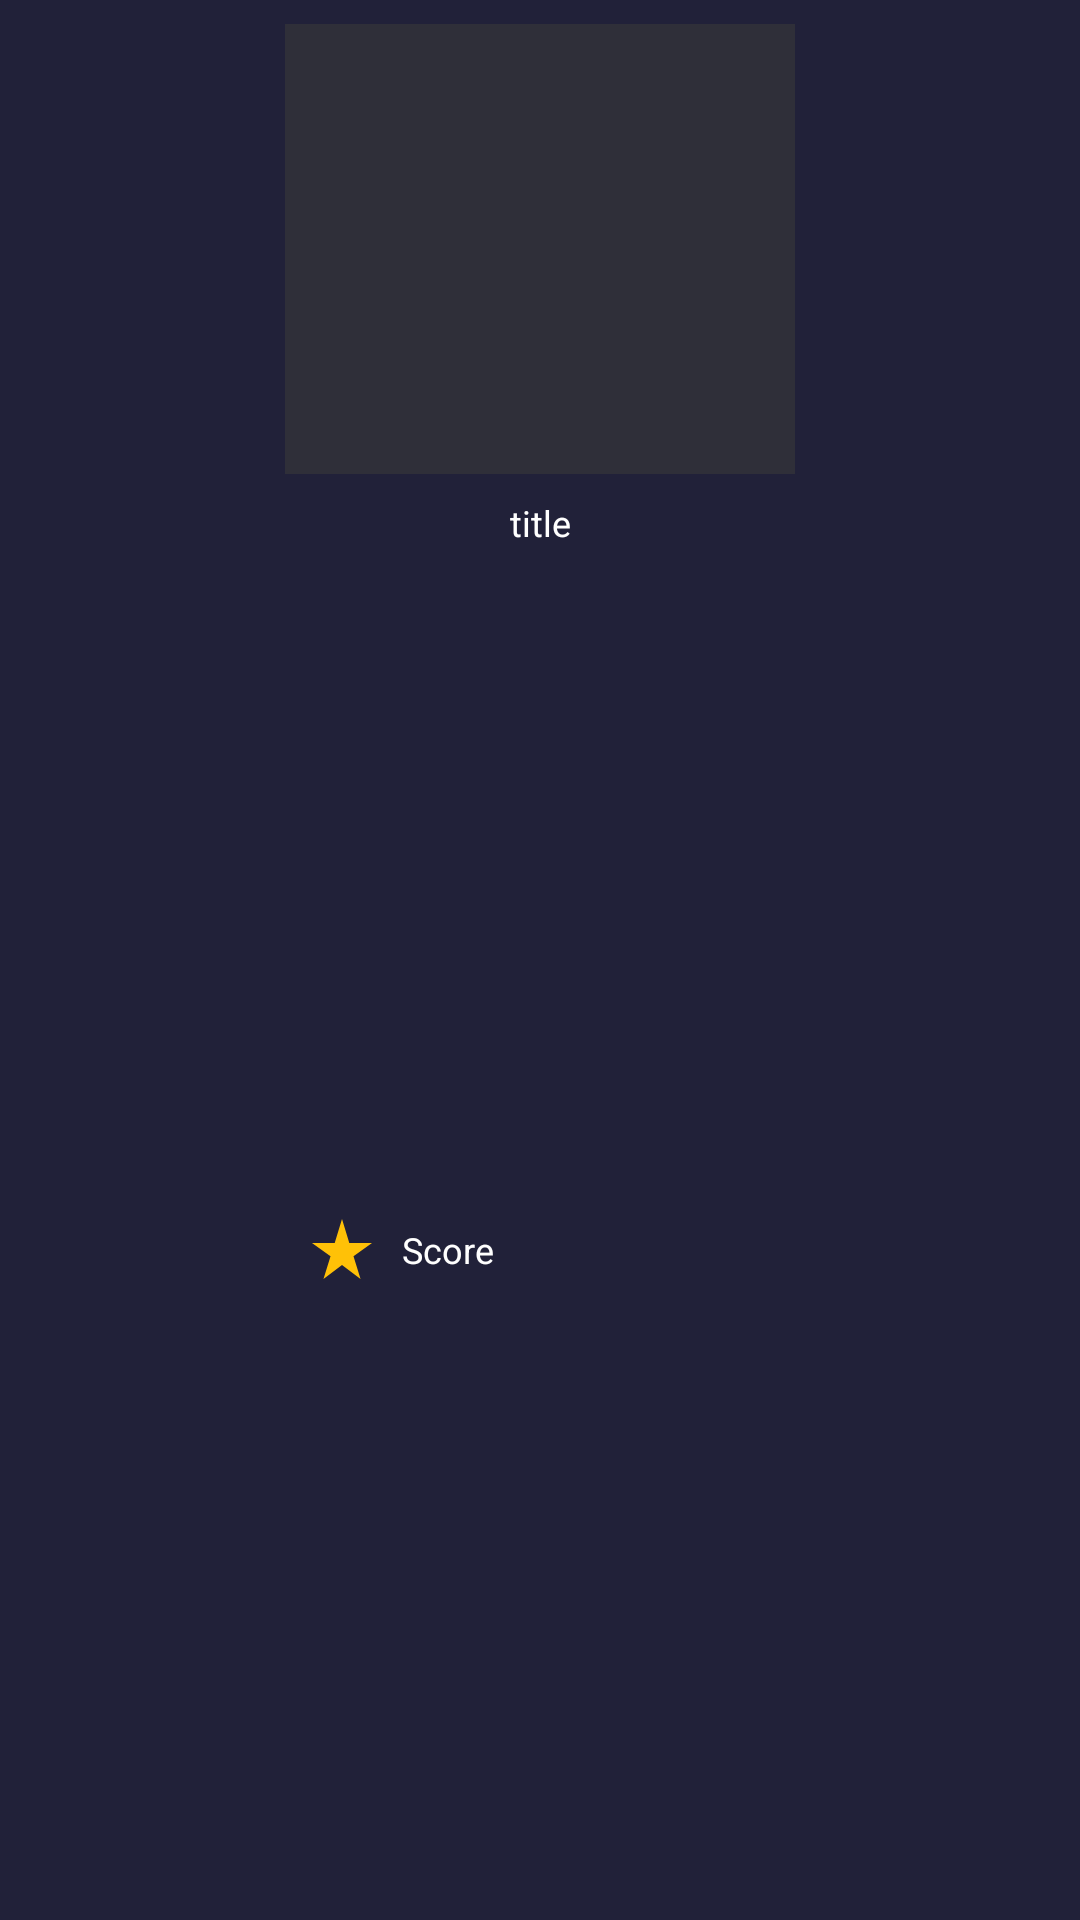

Icons on this 1080x1920 Android screen, each with its box as bbox=[x1, y1, x2, y2]:
star: bbox=[312, 1219, 372, 1279]
